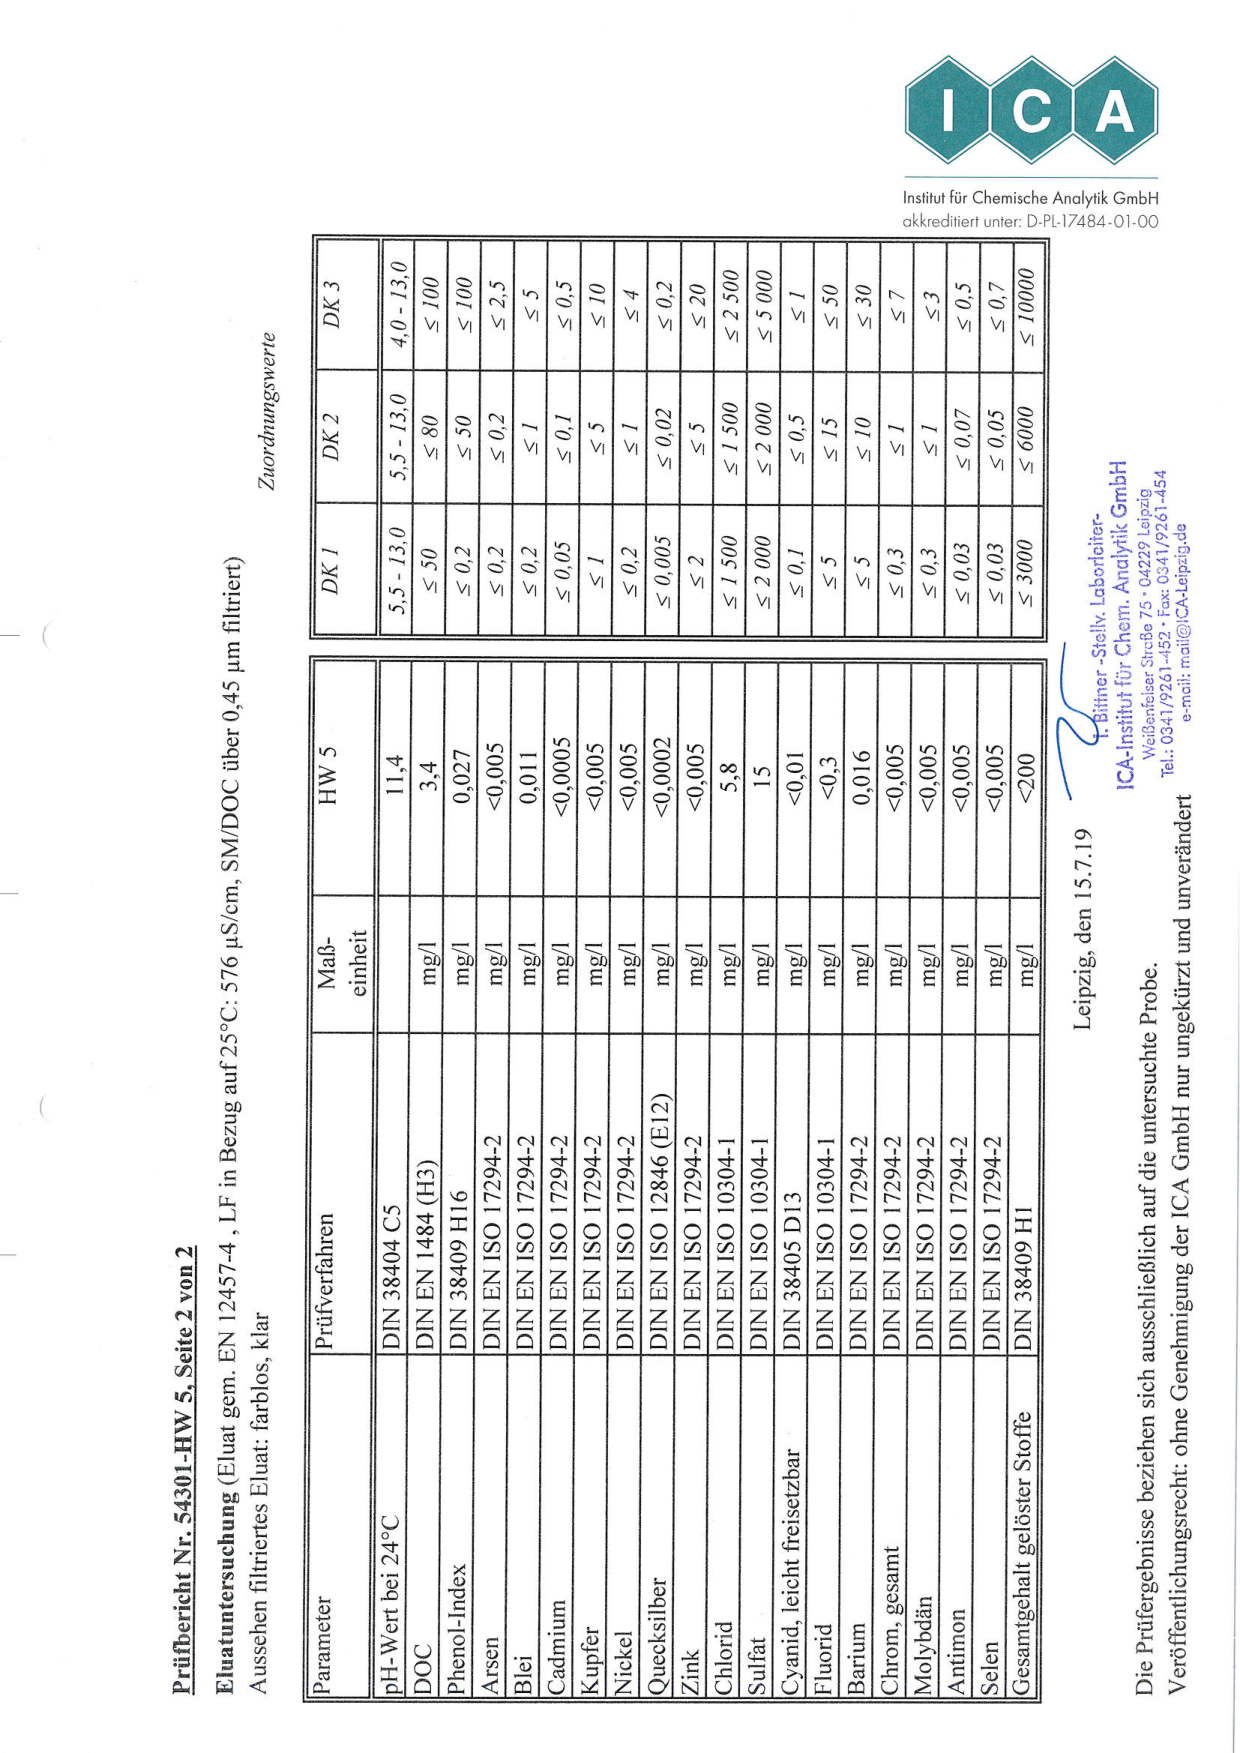table: (294, 230, 1060, 1714)
